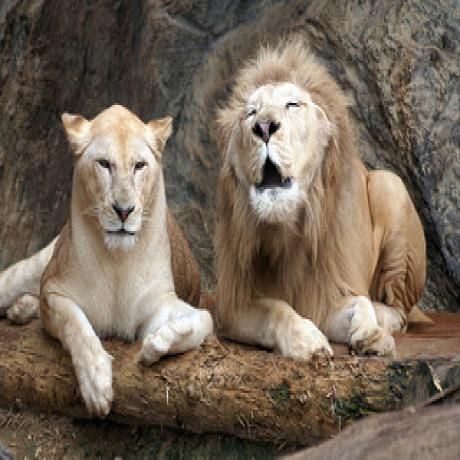Lion: (216, 30, 426, 364), (0, 103, 213, 414)
